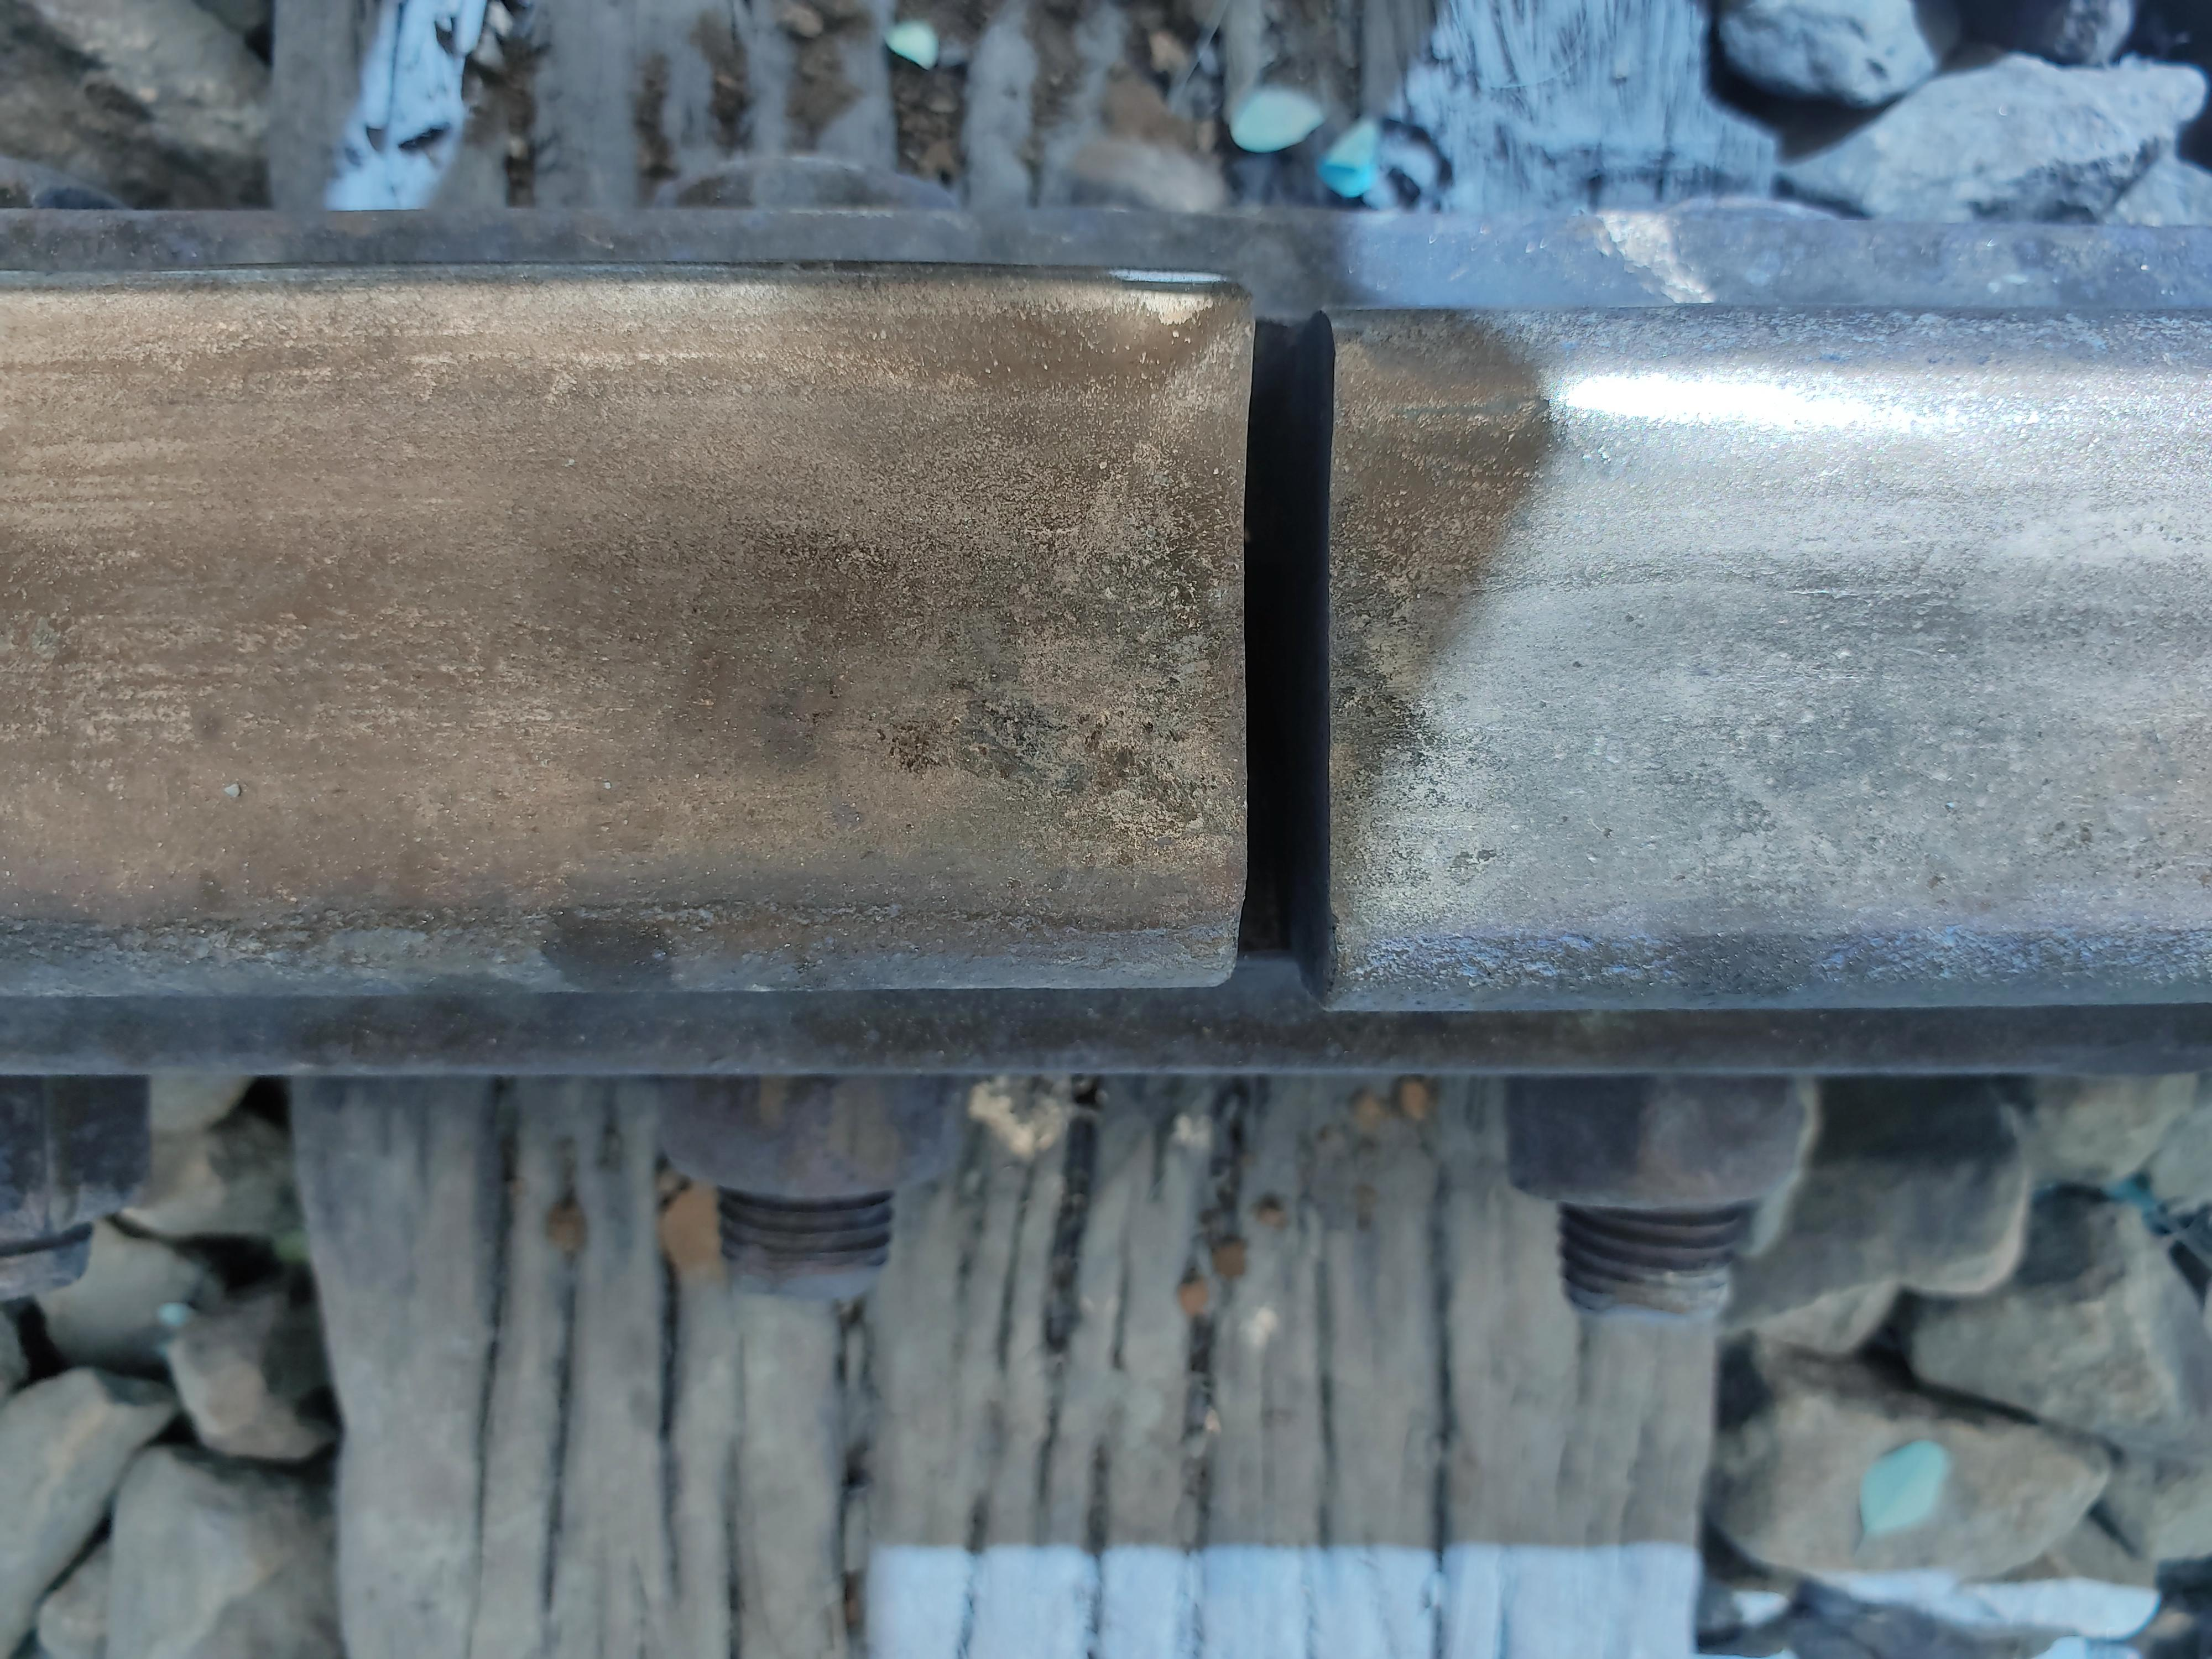error2: (1139, 237, 1477, 1019)
